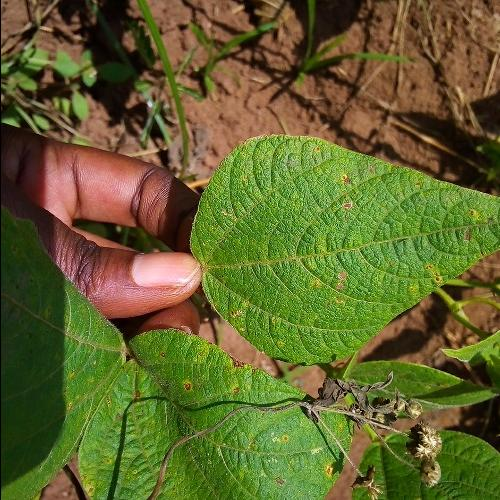hawar: (408, 201, 491, 286), (300, 268, 364, 319), (324, 164, 362, 230)
